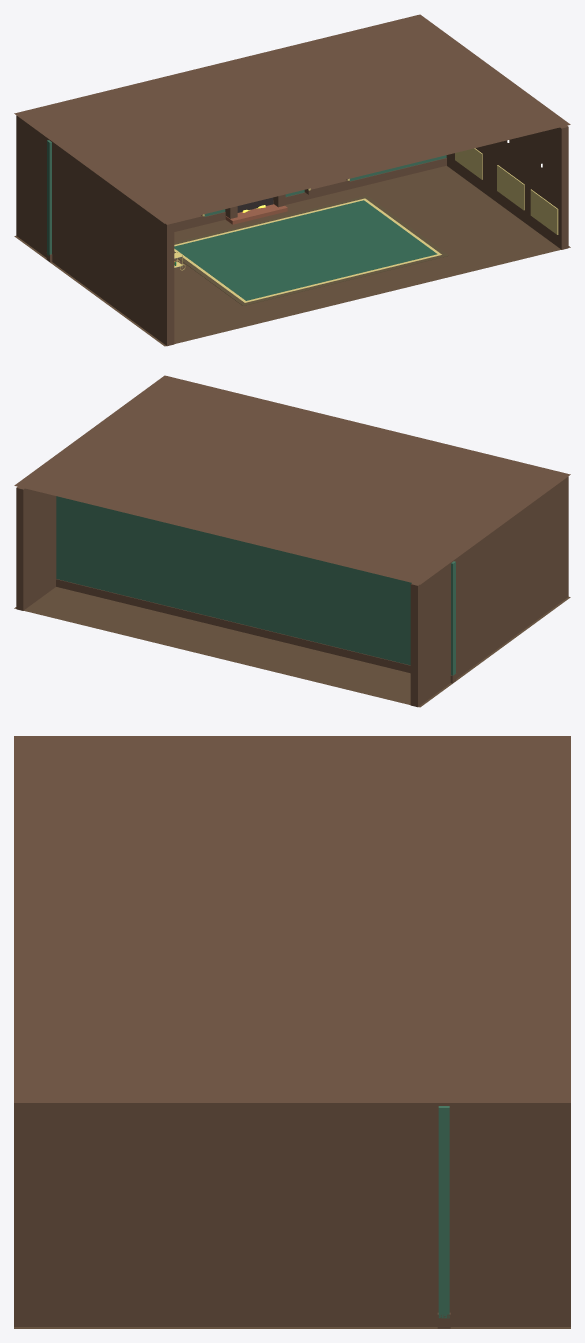
Rendered from room_classic_club.glb.
3 views of the same model, one above another, from view 1: azimuth 30°, elevation 25°; view 2: azimuth 150°, elevation 25°; view 3: azimuth 270°, elevation 25° (orthographic). The views are drawn at different scales.
Parts seen in each view (by area): view 1: CeilingPlane, Floor, SideWall_Left, ClubRug_Inner, SideWall_Right, ClubRug_Outer, Baseboard, CeilingBeam_-1.8, CeilingBeam_-5.0, ClubRug_Stripe, CeilingBeam_1.8, BackWall_Classic (+4 smaller); view 2: CeilingPlane, BackWall_Classic, SideWall_Left, Floor, SideWall_Right, Baseboard, CeilingBeam_-5.0, CeilingBeam_-1.8, CeilingBeam_1.8; view 3: CeilingPlane, SideWall_Right, CeilingBeam_-5.0, CeilingBeam_-1.8, CeilingBeam_1.8, BackWall_Classic, CeilingBeam_5.0, Floor.
Part boxes in pixels (box(x1,y1,x2,y2)): CeilingPlane: box(14, 14, 570, 223); Floor: box(14, 165, 570, 346); SideWall_Left: box(16, 115, 174, 346); ClubRug_Inner: box(174, 200, 437, 300); SideWall_Right: box(446, 126, 568, 249); ClubRug_Outer: box(174, 195, 448, 305); Baseboard: box(46, 158, 446, 262); CeilingBeam_-1.8: box(118, 89, 521, 189); CeilingBeam_-5.0: box(145, 109, 548, 208); ClubRug_Stripe: box(174, 198, 441, 302); CeilingBeam_1.8: box(91, 67, 491, 166); BackWall_Classic: box(47, 140, 446, 256); CeilingPlane: box(14, 375, 570, 584); BackWall_Classic: box(56, 496, 455, 675); SideWall_Left: box(410, 476, 568, 707); Floor: box(14, 587, 570, 707); SideWall_Right: box(16, 487, 56, 610); Baseboard: box(56, 579, 456, 683); CeilingBeam_-5.0: box(145, 390, 548, 490); CeilingBeam_-1.8: box(118, 410, 521, 509); CeilingBeam_1.8: box(88, 432, 491, 531); CeilingPlane: box(14, 736, 570, 1102); SideWall_Right: box(14, 1102, 570, 1326); CeilingBeam_-5.0: box(85, 738, 97, 1099); CeilingBeam_-1.8: box(184, 738, 196, 1099); CeilingBeam_1.8: box(295, 738, 307, 1099); BackWall_Classic: box(438, 1106, 449, 1318); CeilingBeam_5.0: box(394, 739, 406, 1099); Floor: box(14, 1327, 570, 1328).
Bounding box in the file's own units: 28 × 8.1 × 18.
